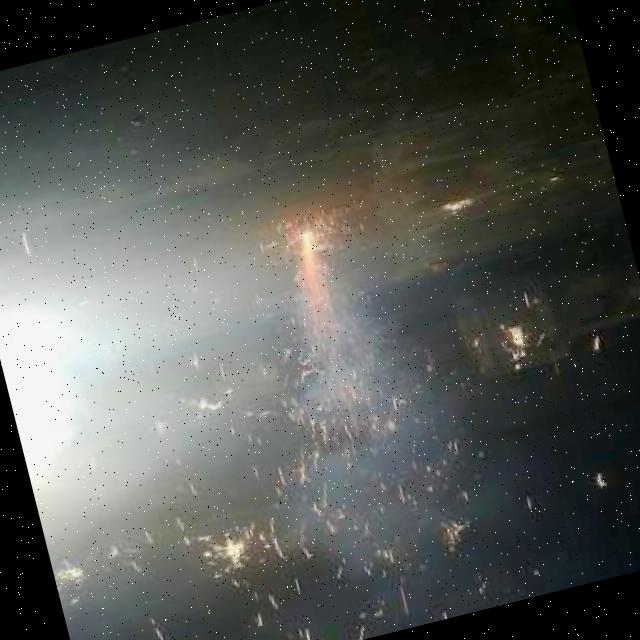fire: (275, 216, 357, 349)
